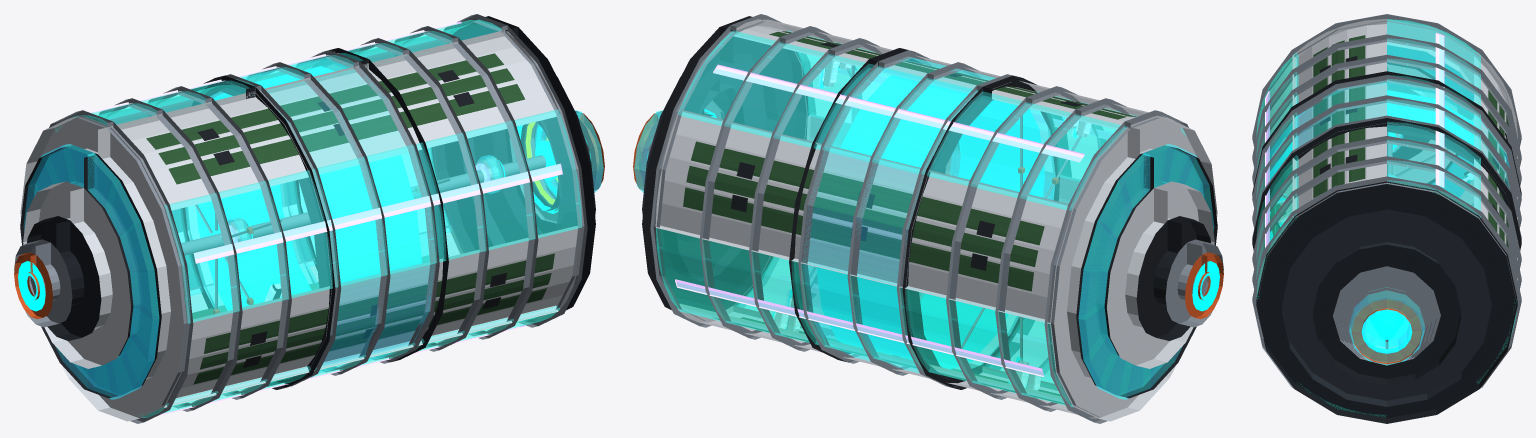
3 views of the same model, side by side, from view 1: azimuth 30°, elevation 25°; view 2: azimuth 150°, elevation 25°; view 3: azimuth 270°, elevation 25° (orthographic). The views are drawn at different scales.
Parts seen in each view (by area): view 1: Cyl03_aero_white, Cyl03_glass_emerald, Cyl03_glass_cyan, Cyl03_steel_machined, Cyl03_gunmetal, Cyl03_foliage, Cyl03_led_cyan, Cyl03_led_uv, Cyl03_carbon_slate, Cyl03_accent_orange; view 2: Cyl03_glass_emerald, Cyl03_aero_white, Cyl03_glass_cyan, Cyl03_steel_machined, Cyl03_gunmetal, Cyl03_foliage, Cyl03_led_cyan, Cyl03_led_uv, Cyl03_carbon_slate, Cyl03_accent_orange, Cyl03_window_lit; view 3: Cyl03_gunmetal, Cyl03_steel_machined, Cyl03_glass_emerald, Cyl03_carbon_slate, Cyl03_aero_white, Cyl03_glass_cyan, Cyl03_foliage, Cyl03_led_cyan, Cyl03_accent_orange, Cyl03_led_uv.
Part boxes in pixels (x1,y1,x2,y2): Cyl03_aero_white: (20, 30, 582, 421); Cyl03_glass_emerald: (55, 19, 581, 417); Cyl03_glass_cyan: (24, 57, 603, 399); Cyl03_steel_machined: (14, 14, 597, 423); Cyl03_gunmetal: (20, 16, 595, 398); Cyl03_foliage: (146, 53, 554, 384); Cyl03_led_cyan: (18, 66, 590, 311); Cyl03_led_uv: (90, 21, 562, 415); Cyl03_carbon_slate: (272, 77, 595, 299); Cyl03_accent_orange: (14, 111, 604, 319); Cyl03_glass_emerald: (656, 30, 1186, 407); Cyl03_aero_white: (655, 19, 1217, 421); Cyl03_glass_cyan: (634, 57, 1213, 399); Cyl03_steel_machined: (640, 14, 1223, 423); Cyl03_gunmetal: (642, 16, 1217, 398); Cyl03_foliage: (683, 31, 1136, 404); Cyl03_led_cyan: (647, 67, 1219, 383); Cyl03_led_uv: (675, 64, 1112, 376); Cyl03_carbon_slate: (642, 57, 777, 281); Cyl03_accent_orange: (633, 111, 1223, 319); Cyl03_window_lit: (773, 61, 1091, 389); Cyl03_gunmetal: (1252, 45, 1521, 423); Cyl03_steel_machined: (1252, 14, 1521, 388); Cyl03_glass_emerald: (1256, 19, 1516, 416); Cyl03_carbon_slate: (1282, 171, 1491, 406); Cyl03_aero_white: (1256, 14, 1517, 347); Cyl03_glass_cyan: (1264, 45, 1509, 365); Cyl03_foliage: (1270, 35, 1509, 248); Cyl03_led_cyan: (1270, 90, 1473, 353); Cyl03_accent_orange: (1352, 148, 1446, 364); Cyl03_led_uv: (1265, 32, 1473, 247).
Bounding box in the file's own units: 800 × 400 × 400.
Materials: 12 (12 with a texture image).
